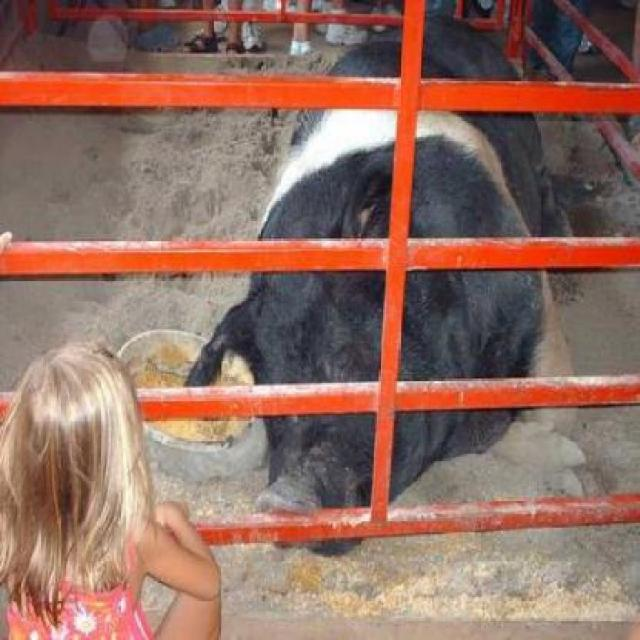pig: (229, 196, 618, 590)
